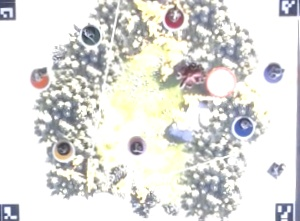blue: (233, 112, 256, 141)
green: (78, 21, 102, 46)
orange: (28, 65, 52, 90)
pink: (126, 132, 149, 159)
red: (159, 4, 187, 30)
violet: (260, 60, 286, 87)
yellow: (52, 135, 78, 162)
